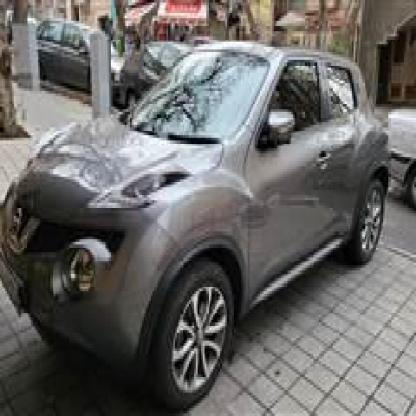Car: (0, 15, 390, 416), (28, 18, 126, 111), (383, 104, 416, 231), (118, 44, 185, 100)
